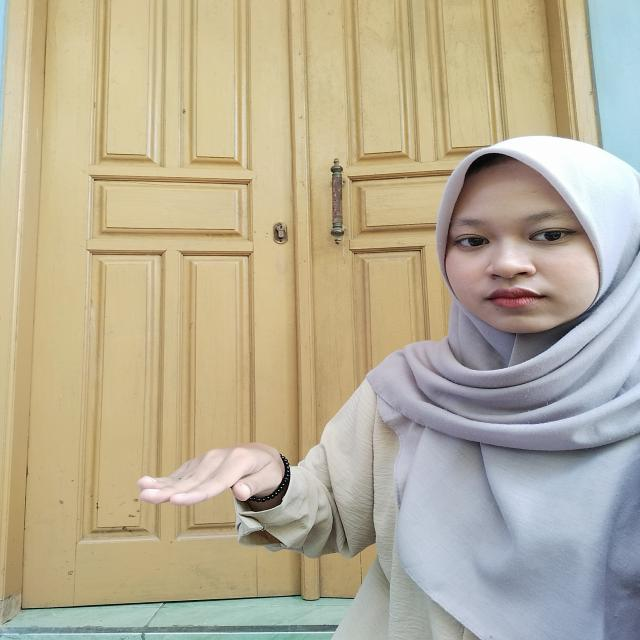adik: (116, 425, 334, 542)
